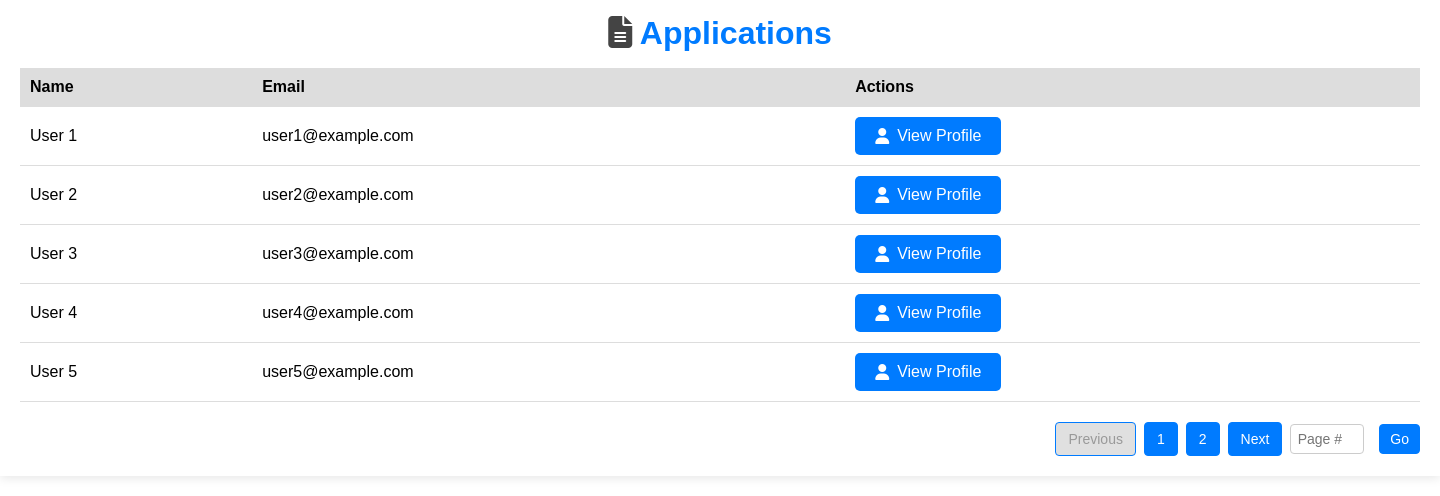
it: Applications Component › handles jumping to a specific page
Expected: the text "User 1" is shown, [20, 106, 252, 165]
Note: Jump to page 2
Type "2" into the number field with placeholder "Page #".
click(1327, 438); type("2")  # box [1290, 424, 1364, 454]
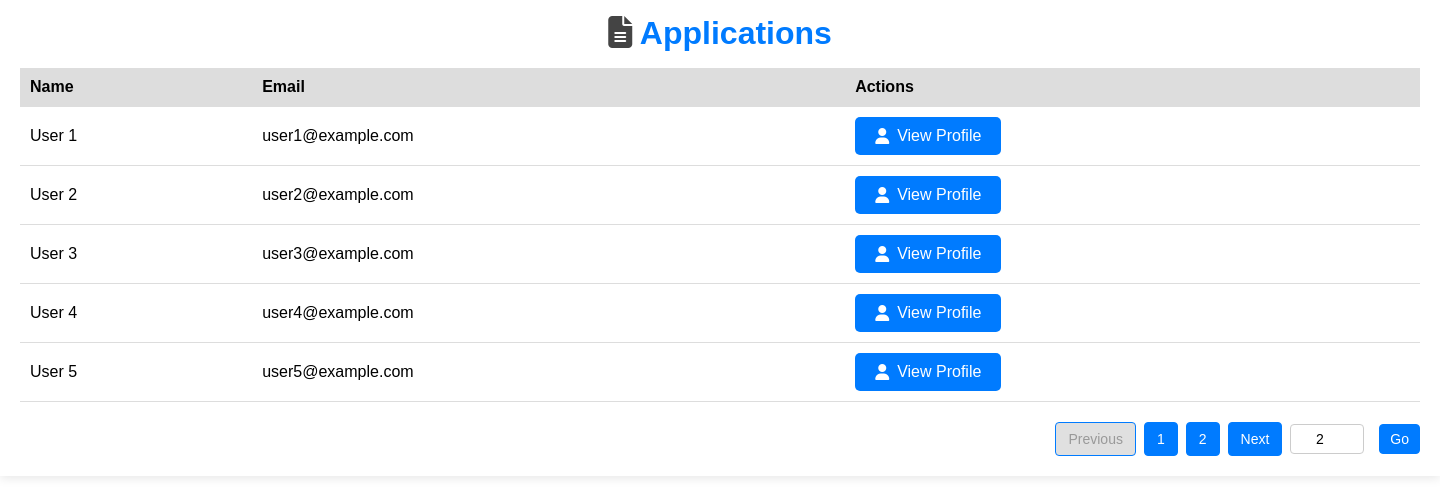
Click the button "Go".
click(1400, 438)  # box [1379, 424, 1420, 454]
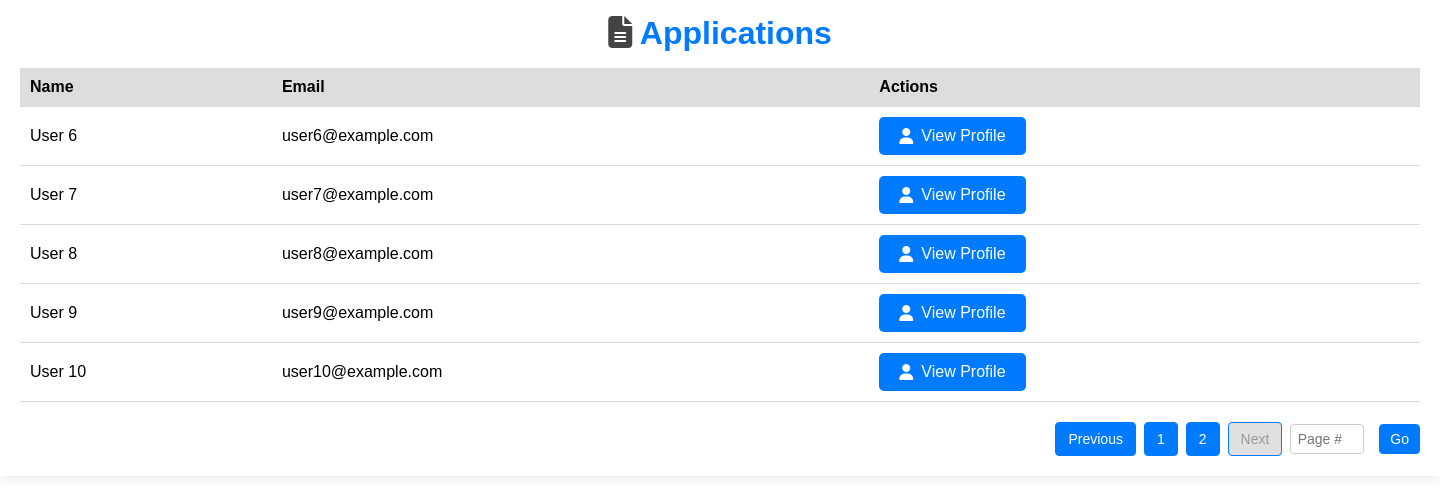
Expected: the text "User 6" is shown, [20, 106, 272, 165]
